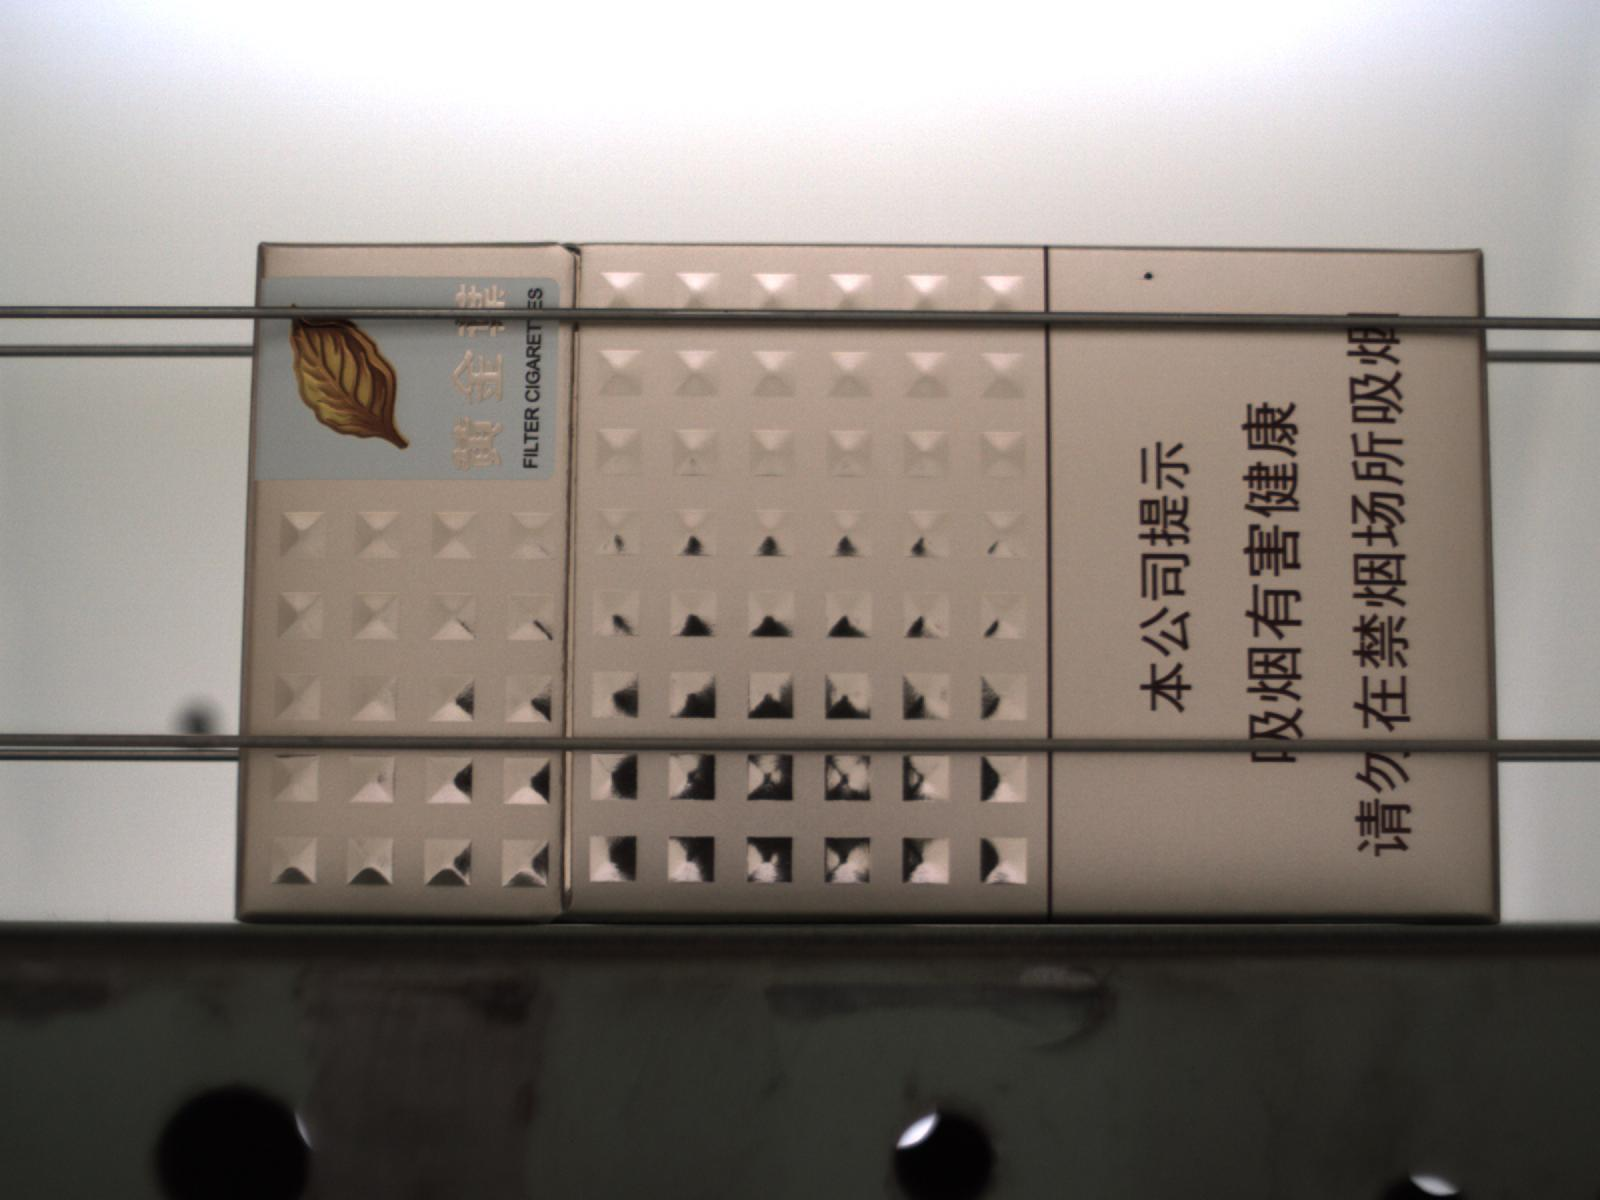dirtySpot: (1141, 271, 1155, 284)
